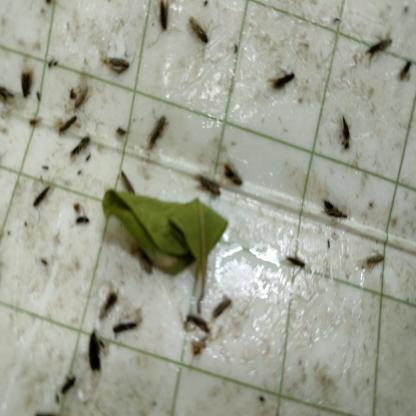prays_oleae: (84, 322, 116, 390), (357, 244, 391, 276), (17, 62, 38, 109), (184, 14, 213, 48), (93, 286, 117, 327), (186, 307, 209, 342), (198, 167, 220, 203), (146, 116, 168, 152), (223, 159, 247, 191), (70, 134, 97, 162), (284, 246, 309, 276), (107, 50, 132, 80), (321, 191, 345, 222), (270, 70, 298, 96), (156, 1, 177, 35), (366, 32, 392, 59), (29, 182, 52, 210), (113, 316, 138, 340), (340, 114, 355, 154), (57, 108, 82, 132), (70, 210, 94, 235), (212, 298, 232, 322), (399, 52, 411, 90)
